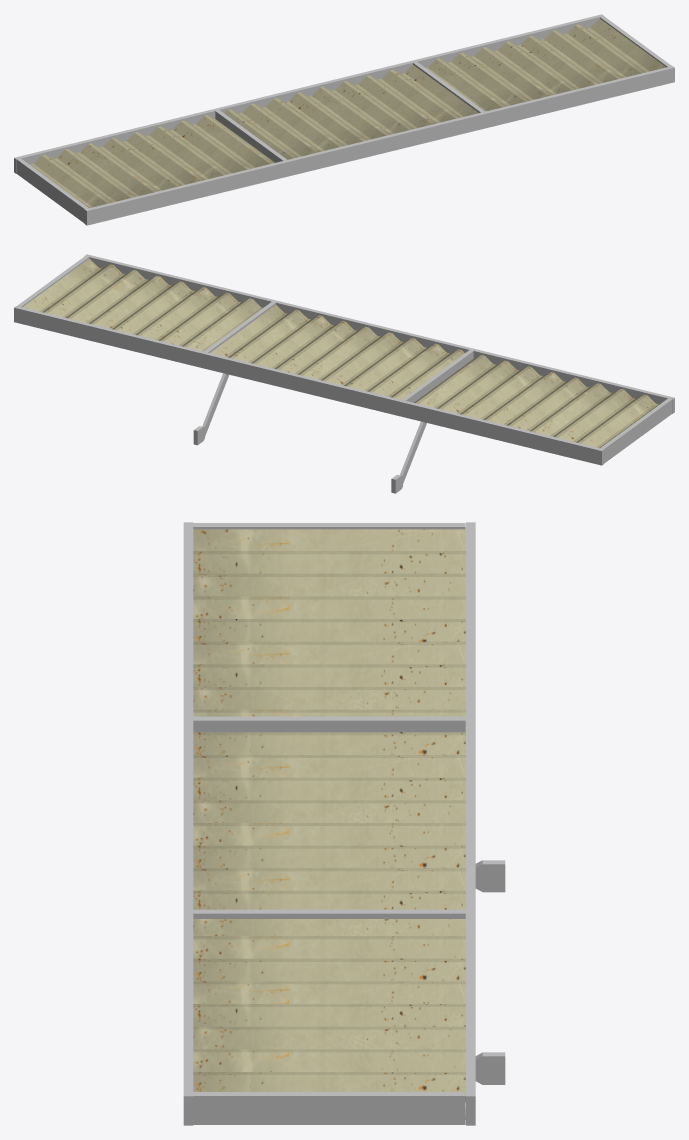
Rendered from raincover04a.fbx.
The picture shows the model from 3 angles, top to bottom: view 1: azimuth 30°, elevation 25°; view 2: azimuth 150°, elevation 25°; view 3: azimuth 270°, elevation 25°; orthographic projection. The views are drawn at different scales.
Visible parts, largest first — view 1: raincover04a; view 2: raincover04a; view 3: raincover04a.
Part boxes in pixels (<box>): raincover04a: <box>14,14,674,225</box>; raincover04a: <box>14,254,674,493</box>; raincover04a: <box>183,522,505,1125</box>.
Bounding box in the file's own units: 1721 × 240 × 407.
